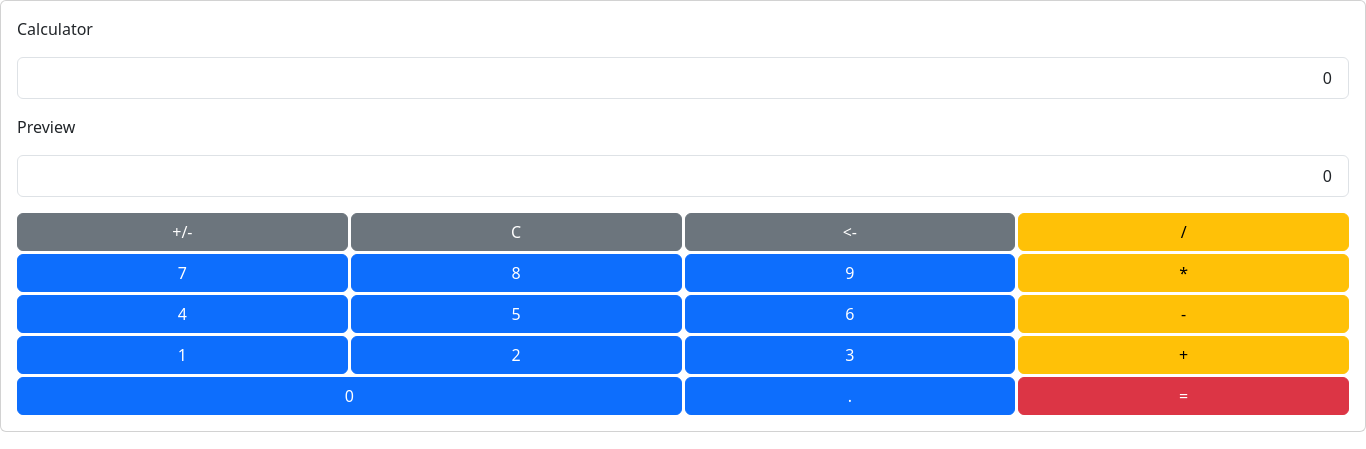
Test: PriceCalculator › The backspace button should remove the last char from the expression.
Click the button "2". click: (516, 355)
box: [351,336,682,374]
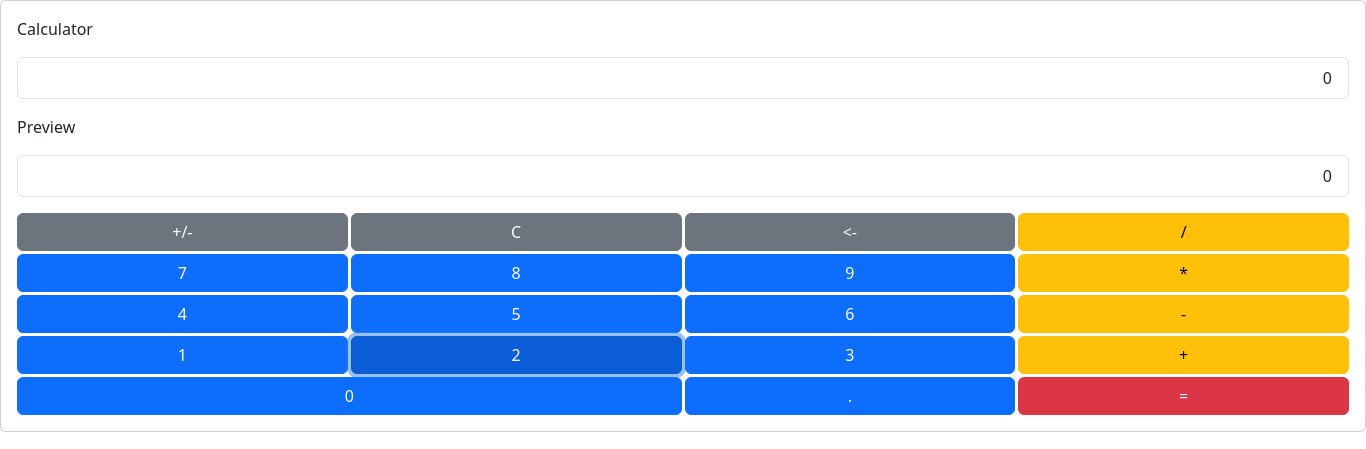
Click the button "+". click: (1184, 355)
box: [1018,336,1349,374]
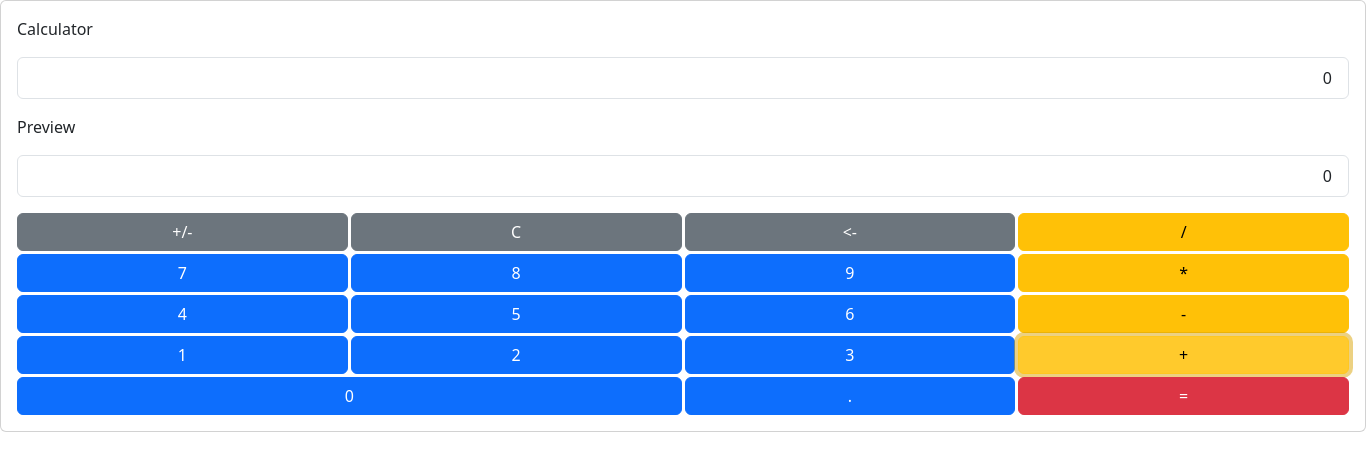
Click the button "2". click: (516, 355)
box: [351,336,682,374]
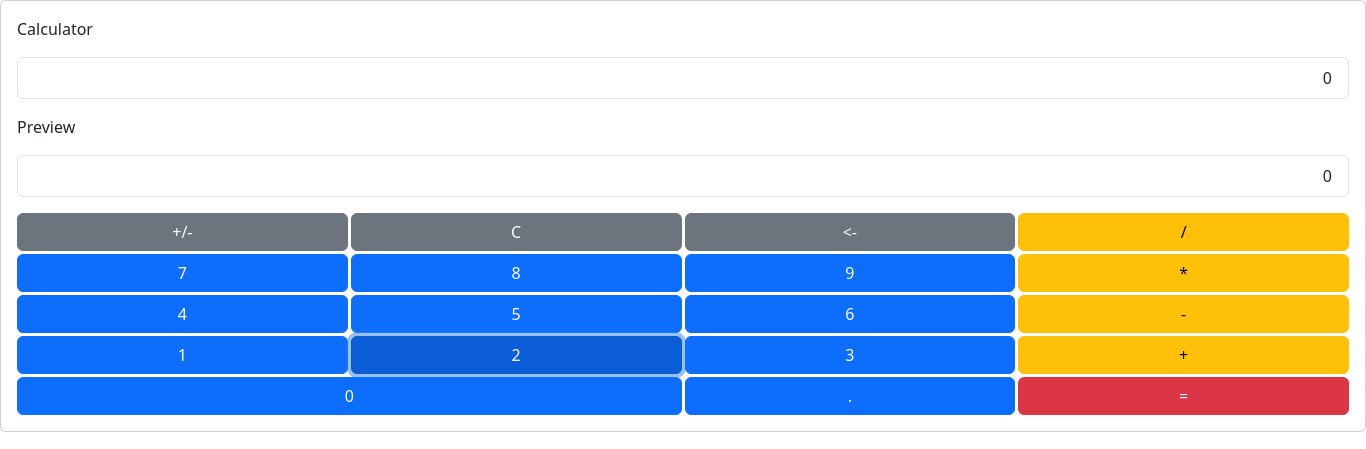
Click the button "<-". click: (850, 232)
box: [684,213,1015,251]
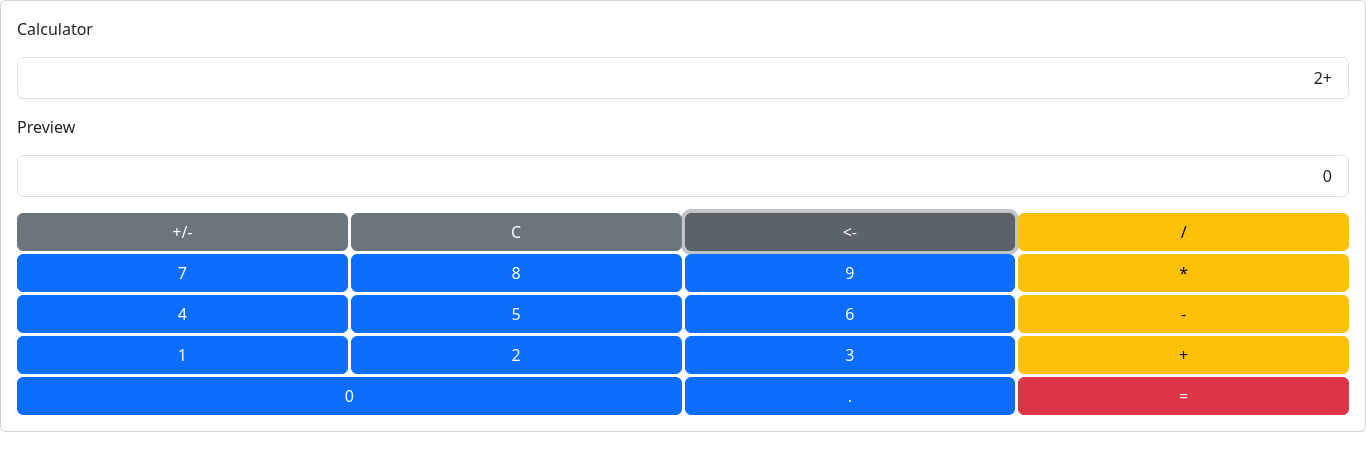
Expected: the text with test id "result" reads "0", [1323,165,1332,187]
Expected: the text with test id "expression" reads "2+", [1314,67,1332,89]
